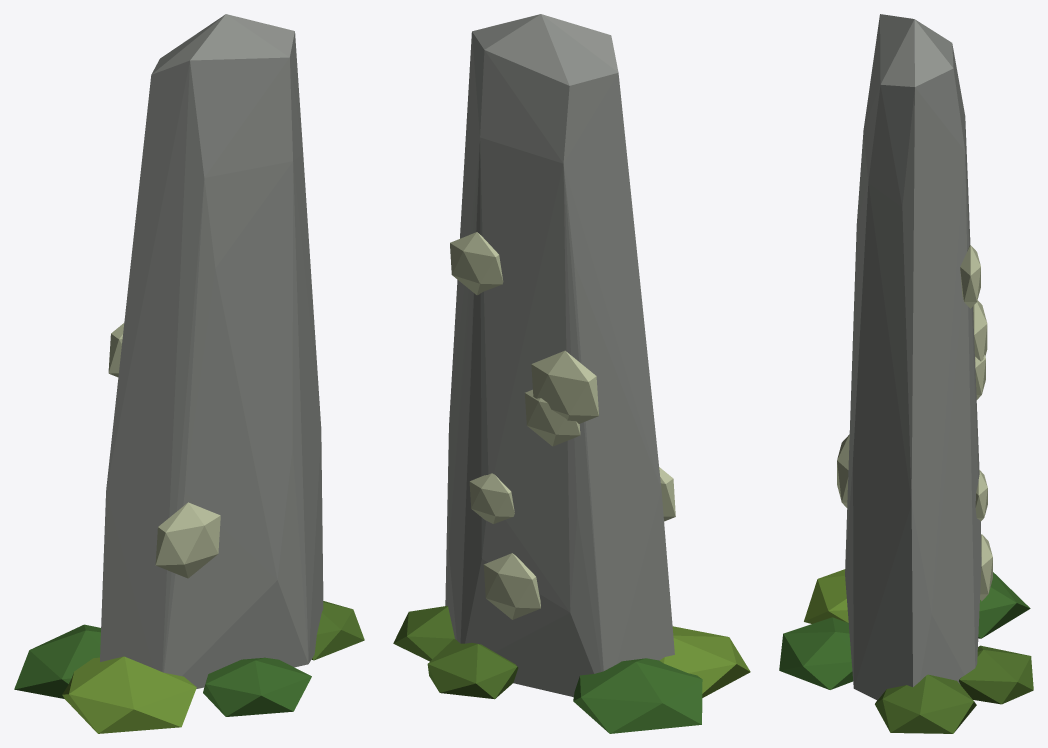
File: forest_standing_stone.glb
The picture shows the model from 3 angles, left to right: view 1: azimuth 30°, elevation 25°; view 2: azimuth 150°, elevation 25°; view 3: azimuth 270°, elevation 25°; orthographic projection.
Parts seen in each view (by area): view 1: forest_standing_stone; view 2: forest_standing_stone; view 3: forest_standing_stone.
Boxes of the visible parts, bbox=[...] form: forest_standing_stone: bbox=[14, 14, 364, 733]; forest_standing_stone: bbox=[393, 14, 750, 733]; forest_standing_stone: bbox=[779, 14, 1033, 733].
Bounding box in the file's own units: 1.76 × 3.45 × 1.22.
